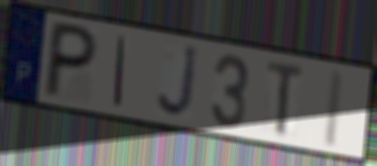3: (209, 51, 250, 129)
I: (320, 66, 348, 151), (111, 33, 129, 110)
J: (155, 43, 201, 121)
P: (39, 18, 102, 100)
T: (264, 58, 307, 139)
